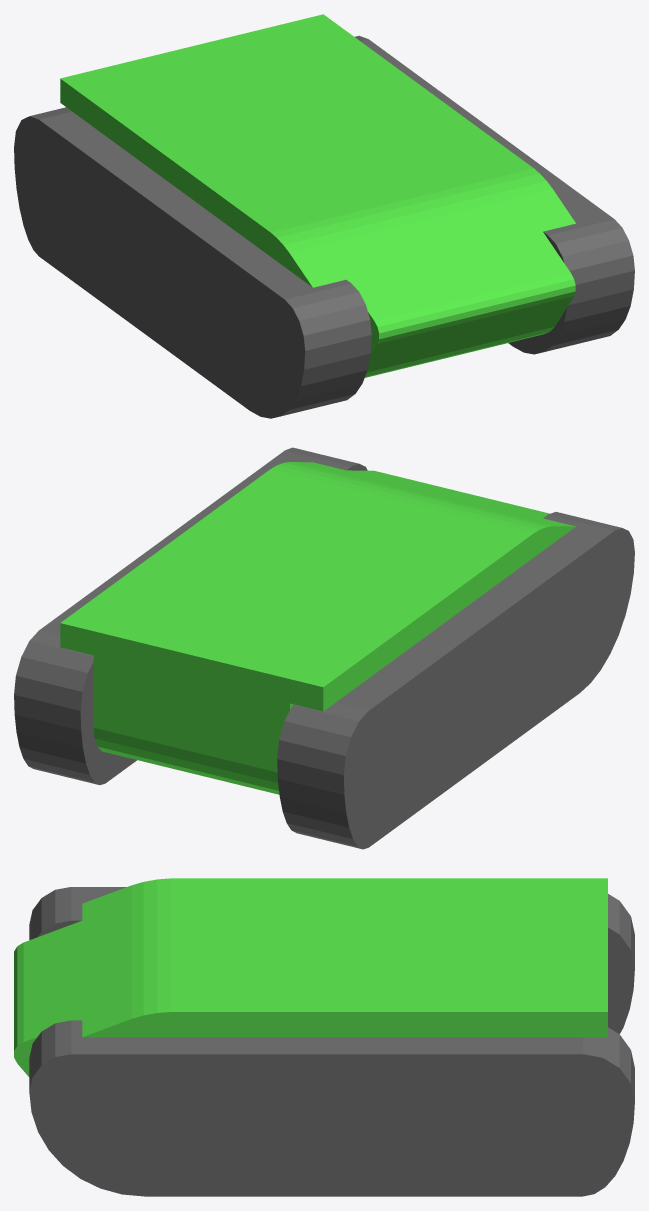
Rendered from wedge-chassis-v1.fbx.
3 views of the same model, one above another, from view 1: azimuth 30°, elevation 25°; view 2: azimuth 150°, elevation 25°; view 3: azimuth 270°, elevation 25° (orthographic). The views are drawn at different scales.
Parts seen in each view (by area): view 1: Chassis, Treads; view 2: Chassis, Treads; view 3: Treads, Chassis.
Boxes of the visible parts, left/top/right/bottom form: Chassis: left=60, top=14, right=575, bottom=377; Treads: left=14, top=35, right=634, bottom=418; Chassis: left=60, top=462, right=575, bottom=794; Treads: left=14, top=447, right=634, bottom=849; Treads: left=29, top=887, right=634, bottom=1196; Chassis: left=14, top=878, right=607, bottom=1076.
Bounding box in the file's own units: 641 × 299 × 1005.
